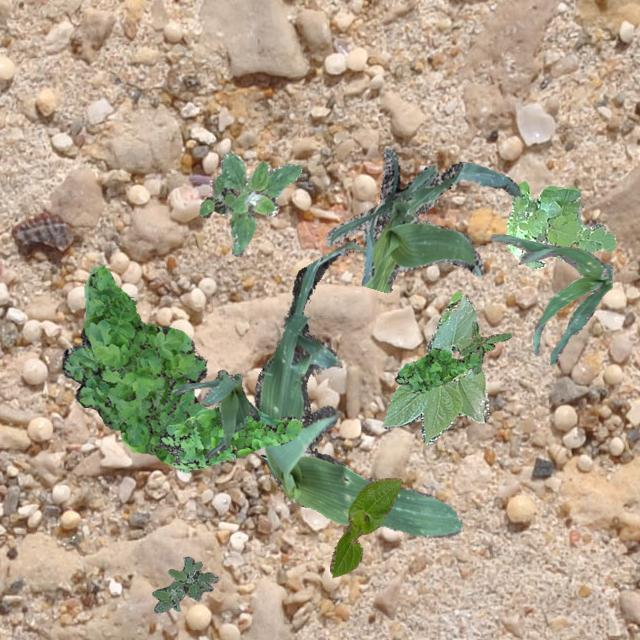crop: (252, 238, 460, 536), (324, 148, 520, 292), (380, 291, 488, 444), (489, 232, 612, 364), (172, 368, 258, 458), (328, 476, 402, 576)
weed: (61, 264, 206, 464), (198, 150, 300, 256), (158, 404, 302, 472), (506, 180, 616, 268), (394, 347, 478, 392), (152, 556, 218, 612), (458, 321, 511, 374)
